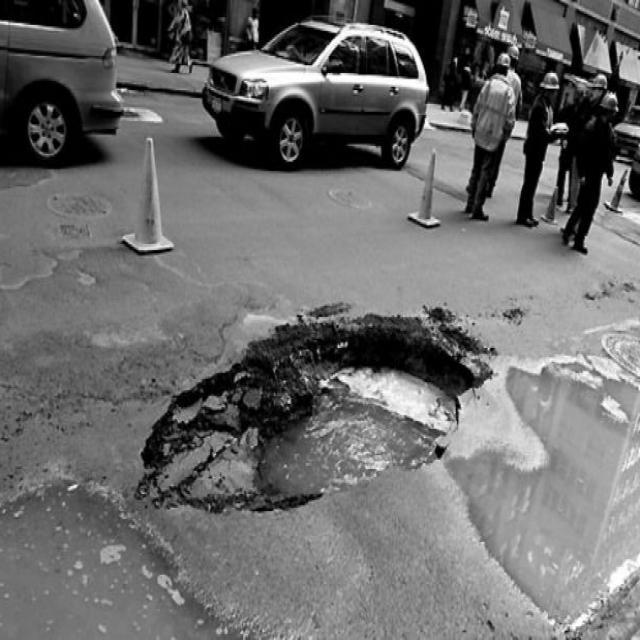pothole: (130, 298, 502, 518)
